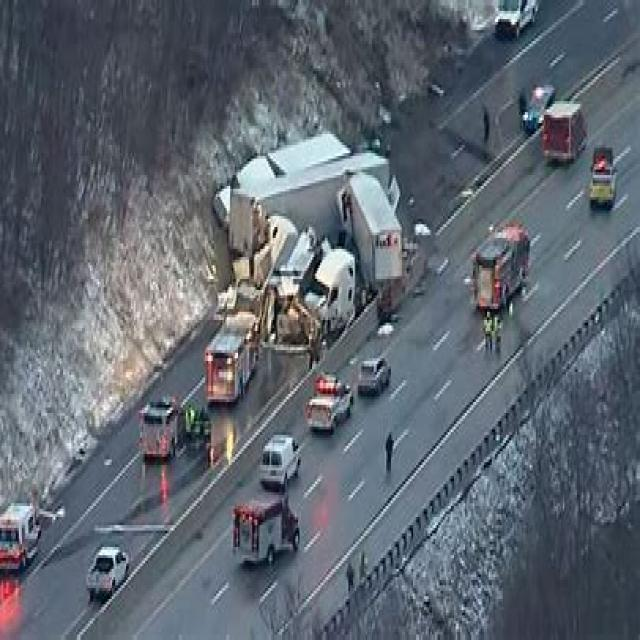Accident: (174, 143, 471, 477)
